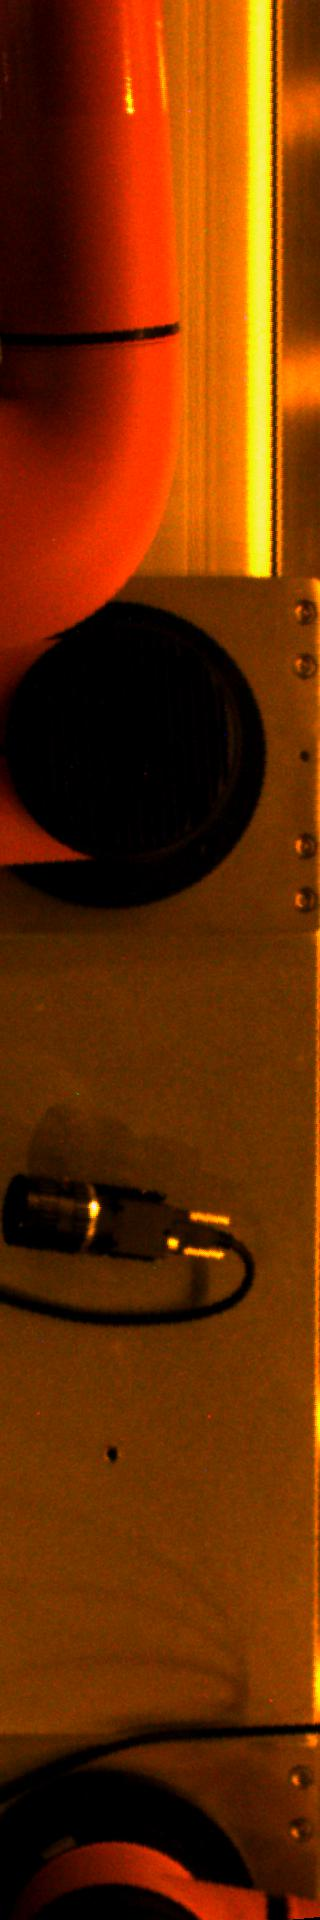keyPoint_2: (97, 1439, 128, 1469)
